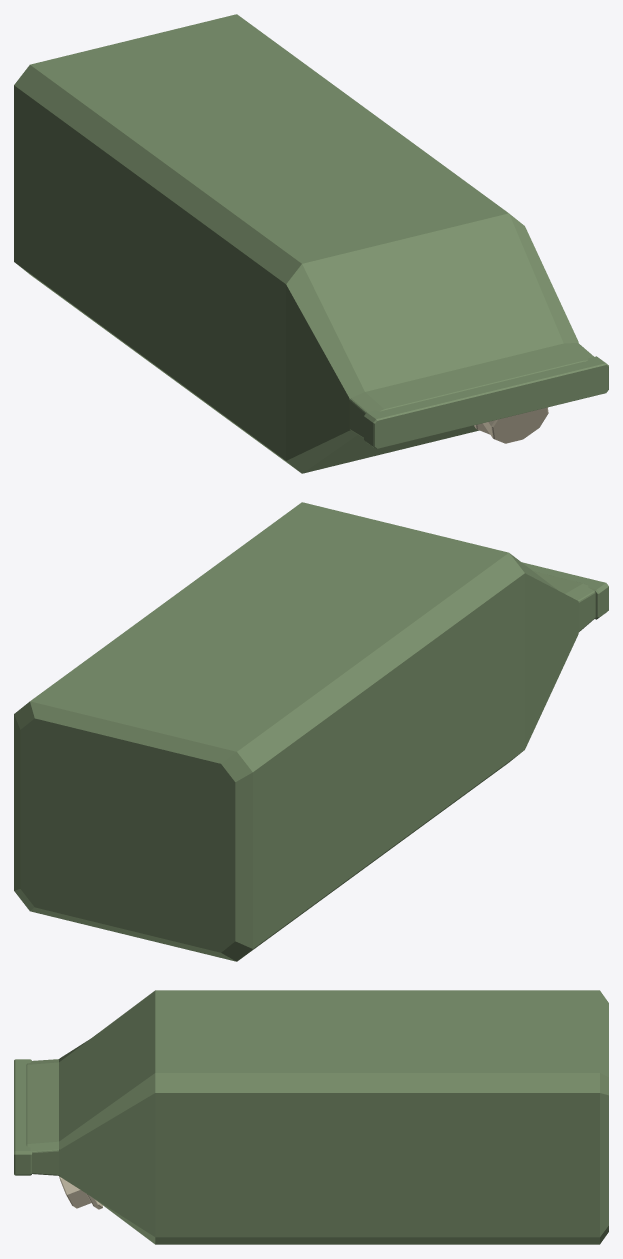
File: oat_milk.glb
The picture shows the model from 3 angles, top to bottom: view 1: azimuth 30°, elevation 25°; view 2: azimuth 150°, elevation 25°; view 3: azimuth 270°, elevation 25°; orthographic projection. The views are drawn at different scales.
Parts seen in each view (by area): view 1: oat_milk; view 2: oat_milk; view 3: oat_milk.
Boxes of the visible parts, left/top/right/bottom form: oat_milk: left=14, top=14, right=608, bottom=473; oat_milk: left=14, top=502, right=608, bottom=961; oat_milk: left=14, top=990, right=608, bottom=1244.
Bounding box in the file's own units: 0.075 × 0.0655 × 0.198.
